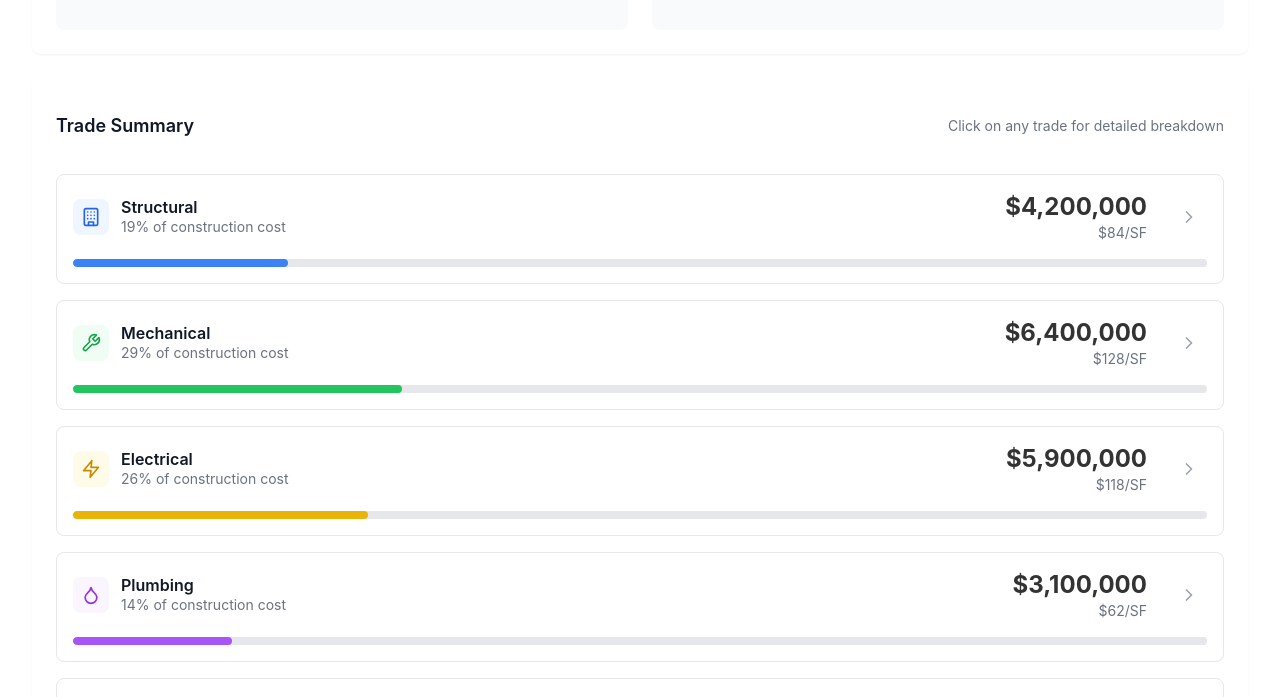
Scenario: ConstructionView › renders healthcare dominant-trade scope depth and truthful special-feature breakdown
This screenshot has width=1280, height=697.
(page scrolled)
Click the button "Mechanical".
click(91, 343)  # box [57, 301, 1223, 409]
(page scrolled)
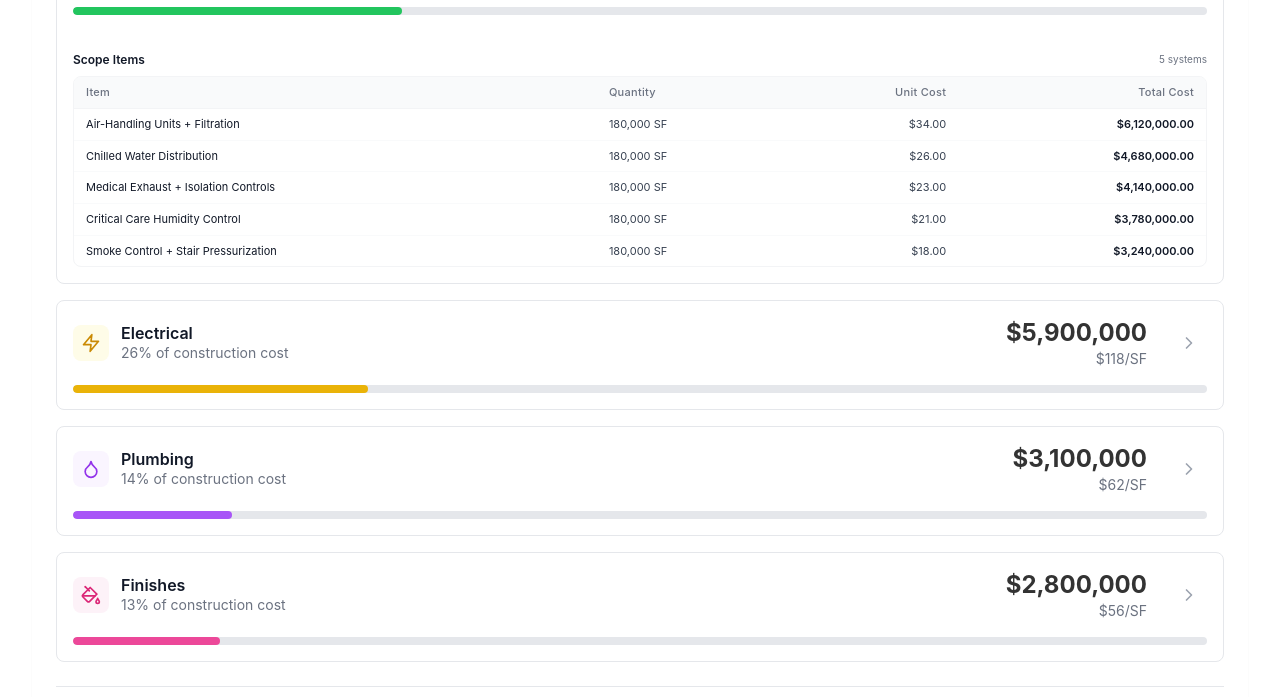
Check: the text "5 systems" is shown, box [1159, 51, 1207, 68]
Check: the text "Air-Handling Units + Filtration" is shown, box [74, 108, 601, 140]
Check: the text "Medical Exhaust + Isolation Controls" is shown, box [74, 172, 601, 203]
Click the button "Electrical".
click(91, 343)  # box [57, 301, 1223, 409]
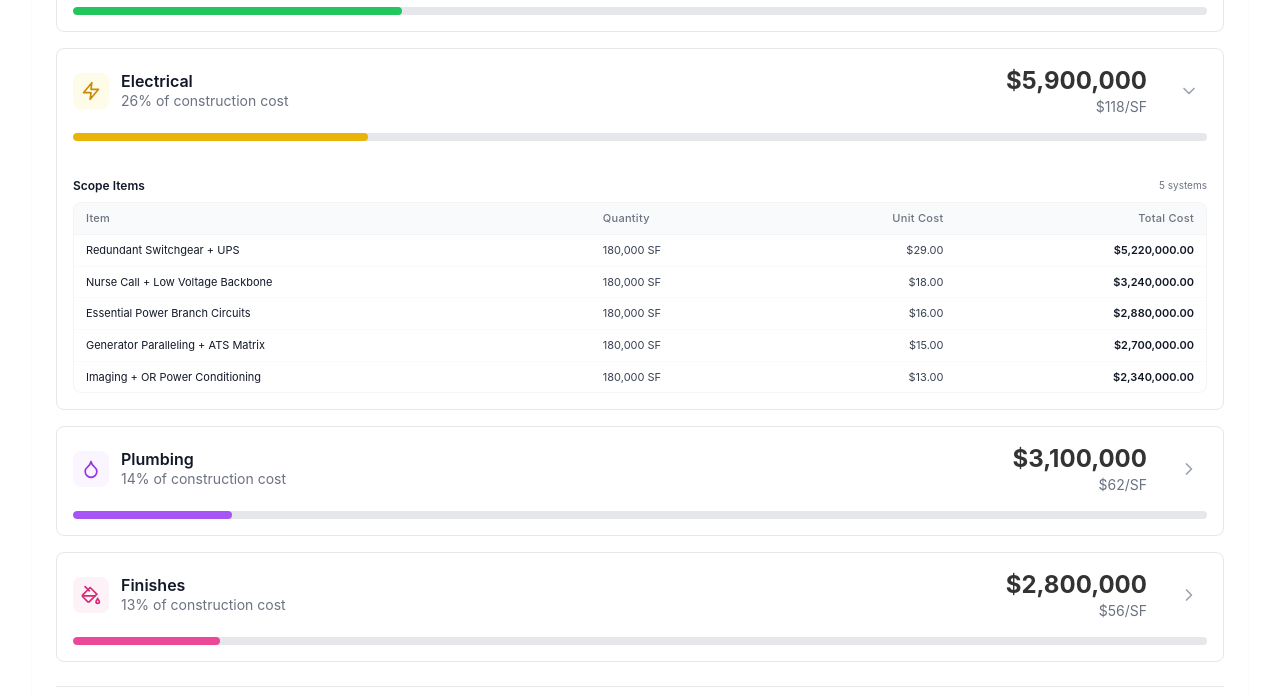
Check: the text "5 systems" is shown, box [1159, 177, 1207, 194]
Check: the text "Redundant Switchgear + UPS" is shown, box [74, 234, 595, 266]
Check: the text "Nurse Call + Low Voltage Backbone" is shown, box [74, 266, 595, 298]
